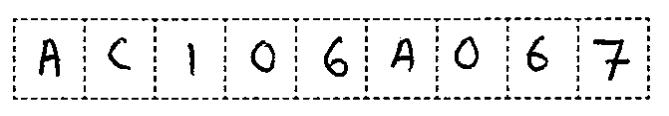0: (242, 34, 284, 78), (448, 34, 486, 74)
1: (178, 37, 207, 83)
6: (315, 31, 353, 78), (520, 30, 554, 77)
7: (590, 34, 635, 86)
A: (30, 32, 69, 82), (385, 32, 419, 76)
C: (100, 33, 138, 74)
